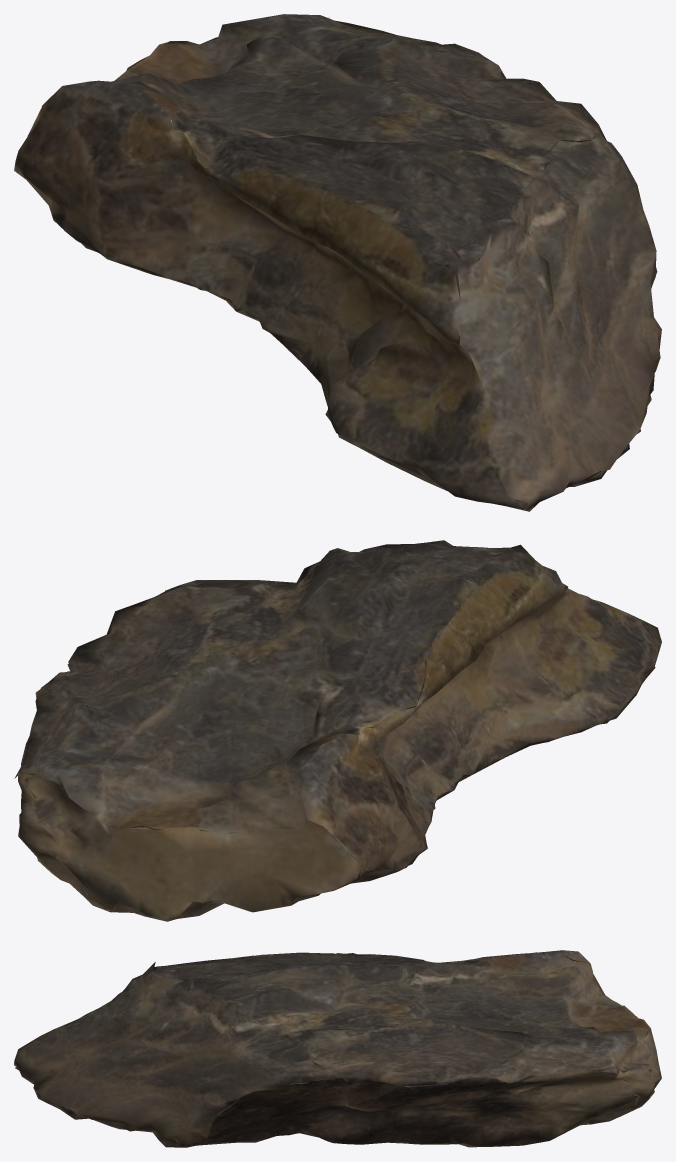
File: weathered-rock-b.glb
3 views of the same model, one above another, from view 1: azimuth 30°, elevation 25°; view 2: azimuth 150°, elevation 25°; view 3: azimuth 270°, elevation 25° (orthographic). The views are drawn at different scales.
Visible parts, largest first — view 1: SM_Rock_Weathered_B_LOD0; view 2: SM_Rock_Weathered_B_LOD0; view 3: SM_Rock_Weathered_B_LOD0.
Part boxes in pixels (x1,y1,x2,y2): SM_Rock_Weathered_B_LOD0: [14, 14, 661, 511]; SM_Rock_Weathered_B_LOD0: [14, 540, 661, 921]; SM_Rock_Weathered_B_LOD0: [14, 950, 661, 1147].
Size of what is drawn, in the model's own units: 0.99 by 0.4358 by 1.94.
1 material, 1 textured.
